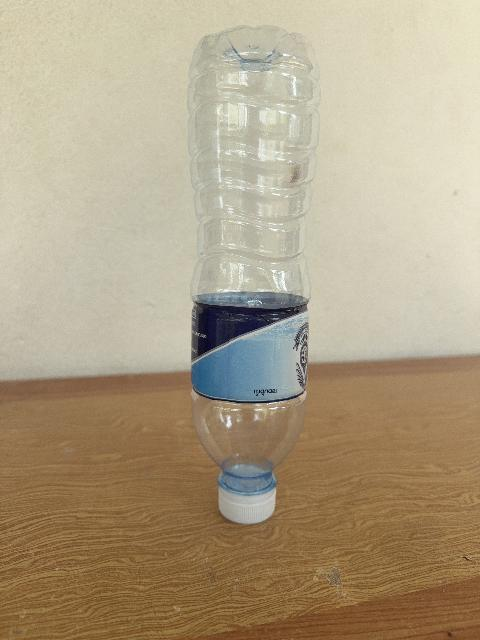bottle: (187, 27, 318, 523)
